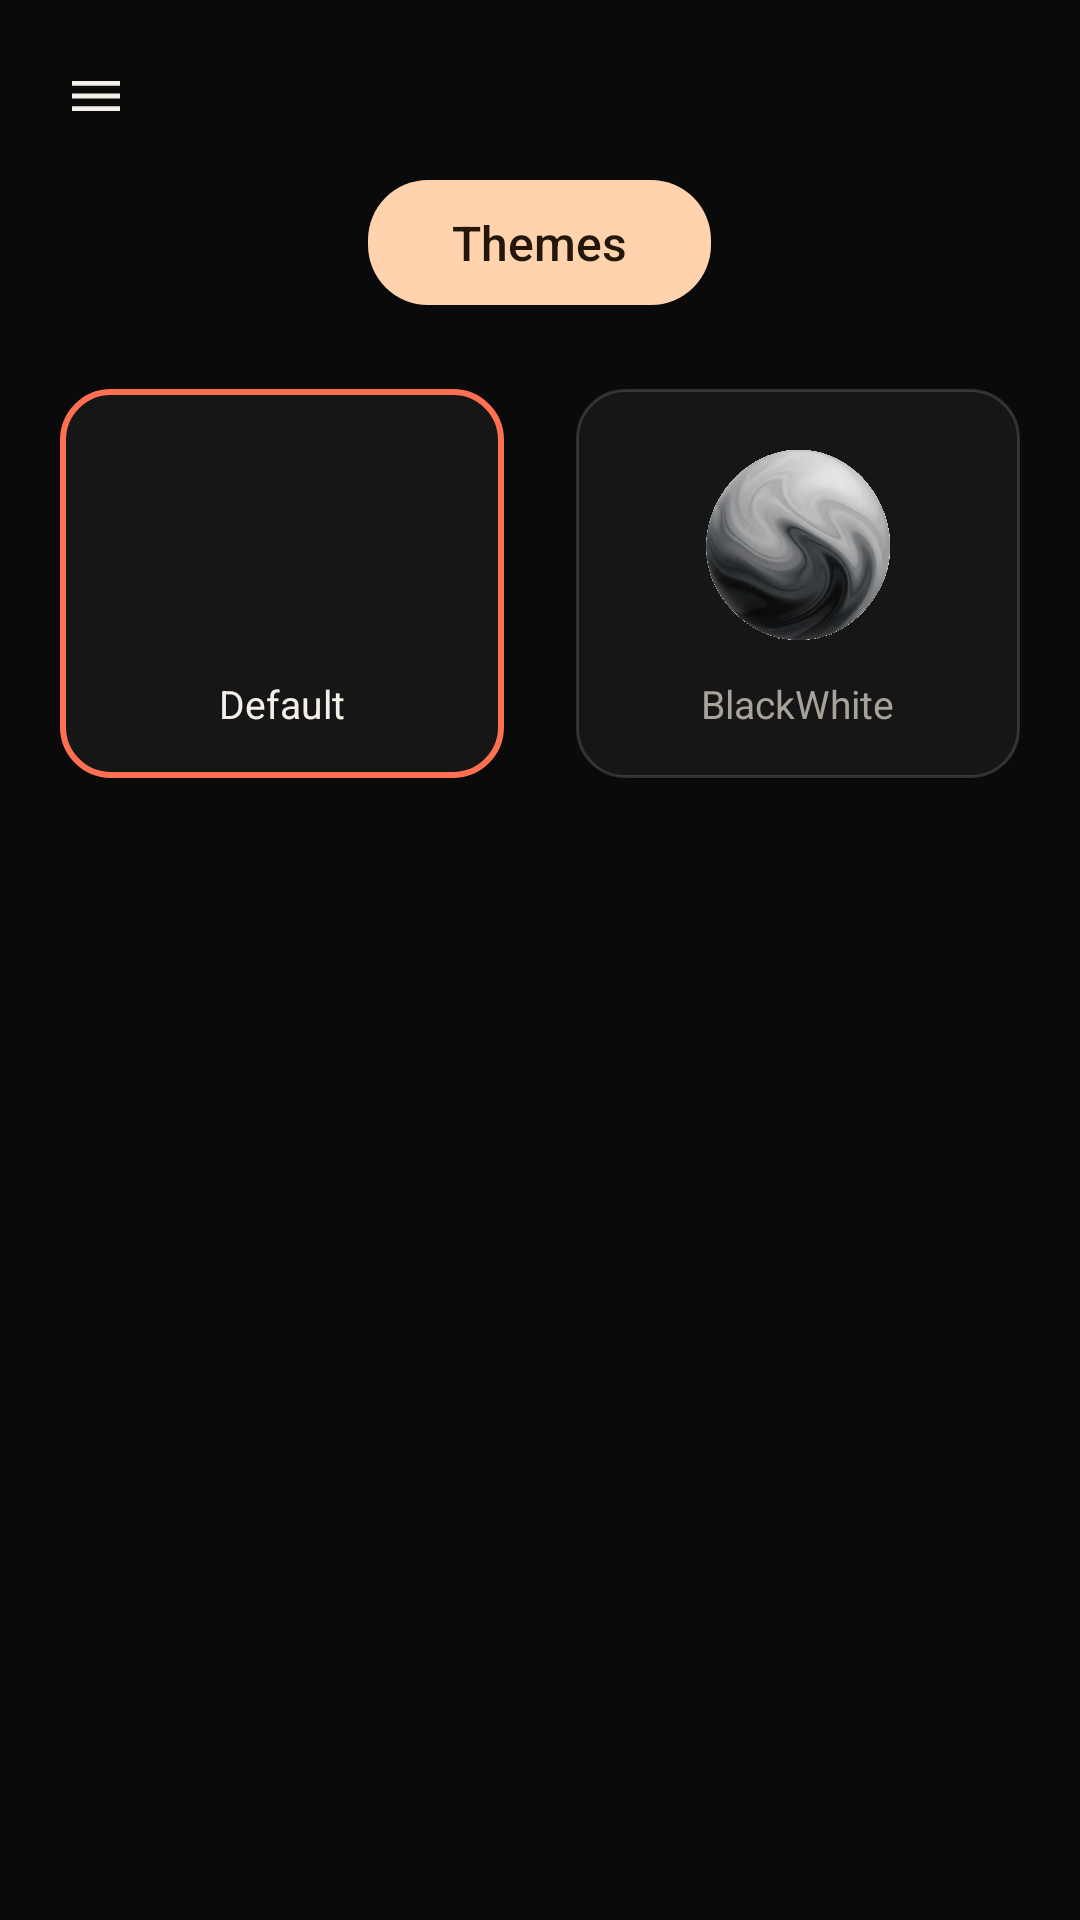

Screen size 1080*1920. Icon name, then its box in pixels as {"left": x1, "top": y1, "right": x2, "bottom": y2}:
Menu: {"left": 72, "top": 81, "right": 120, "bottom": 111}
